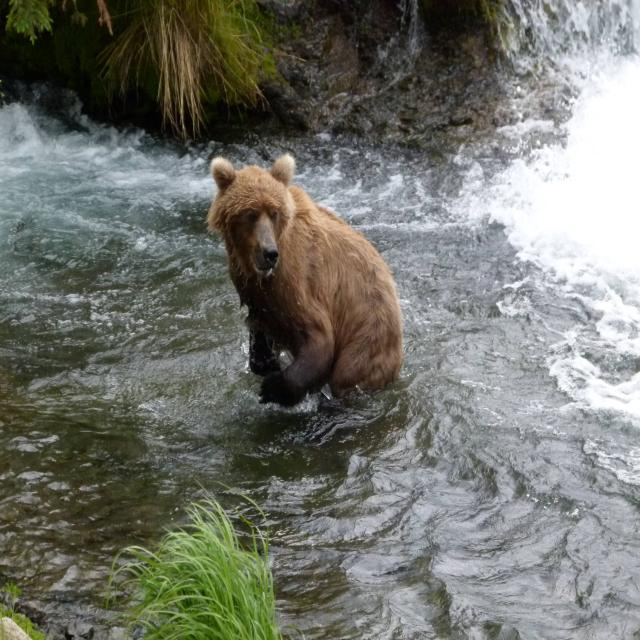bear face: (209, 156, 402, 403)
